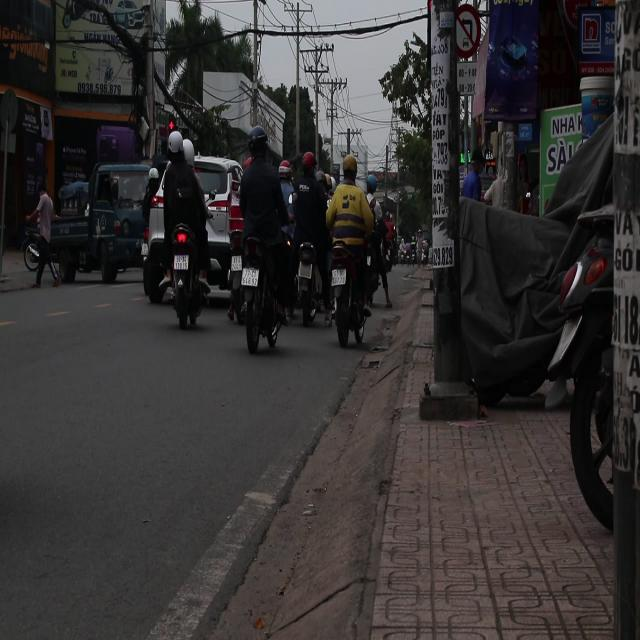car: (195, 157, 243, 312)
motorbike: (138, 136, 214, 323), (240, 227, 286, 350), (329, 233, 371, 341), (294, 243, 327, 328)
truck: (83, 160, 153, 284)
